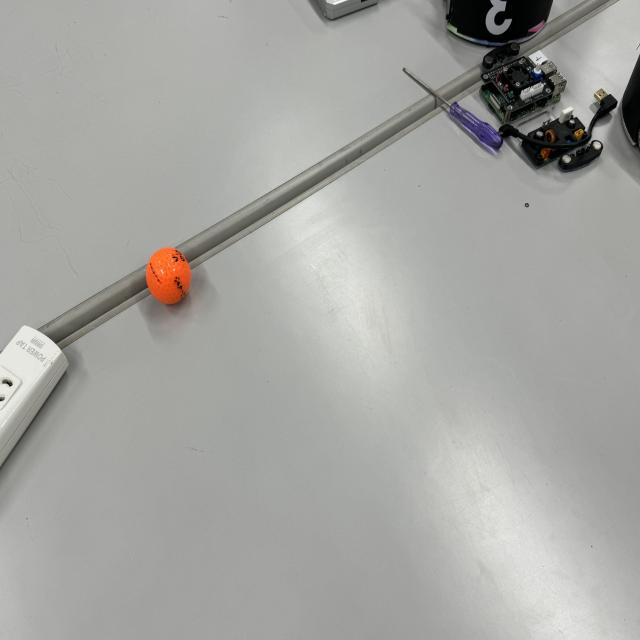ball: (143, 245, 195, 308)
